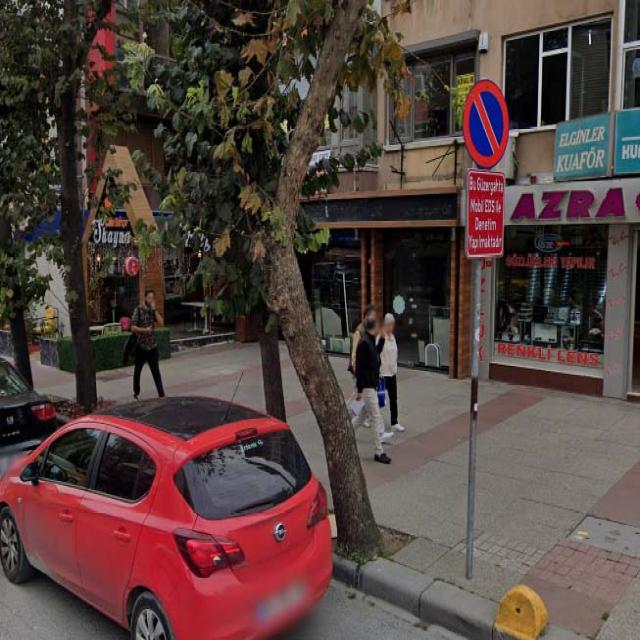parkyasak: (462, 80, 508, 168)
